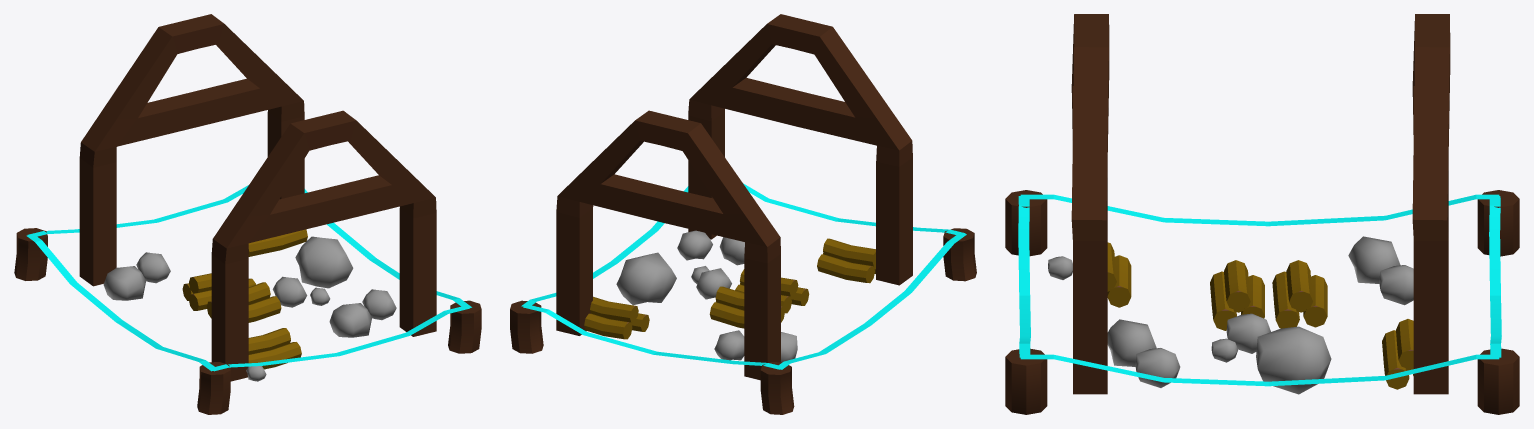
The model's file is HouseSite_3.fbx.
3 renders of one model, left to right at view 1: azimuth 30°, elevation 25°; view 2: azimuth 150°, elevation 25°; view 3: azimuth 270°, elevation 25°, orthographic. The views are drawn at different scales.
Visible parts, largest first — view 1: polySurface39; view 2: polySurface39; view 3: polySurface39.
Boxes of the visible parts, x1,y1,x2,y2 form: polySurface39: [14, 14, 481, 414]; polySurface39: [510, 14, 976, 414]; polySurface39: [1005, 14, 1519, 414].
Bounding box in the file's own units: 8.63 × 6.94 × 10.58.
Materials: 2 (2 with a texture image).
